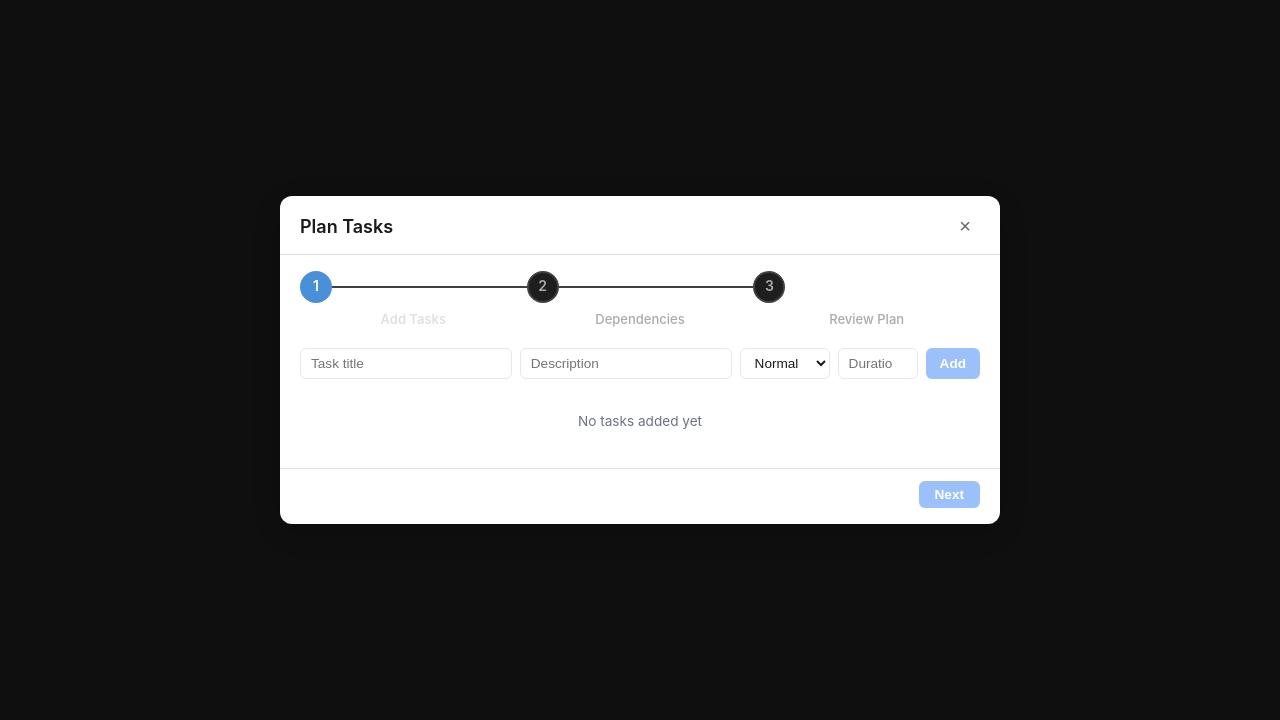
Test: PlannerWizard › step 1 — add tasks › priority selector works
Step 1. Type "Critical Task" into the field with placeholder "Task title" → (406,363), box [300,348,512,379]
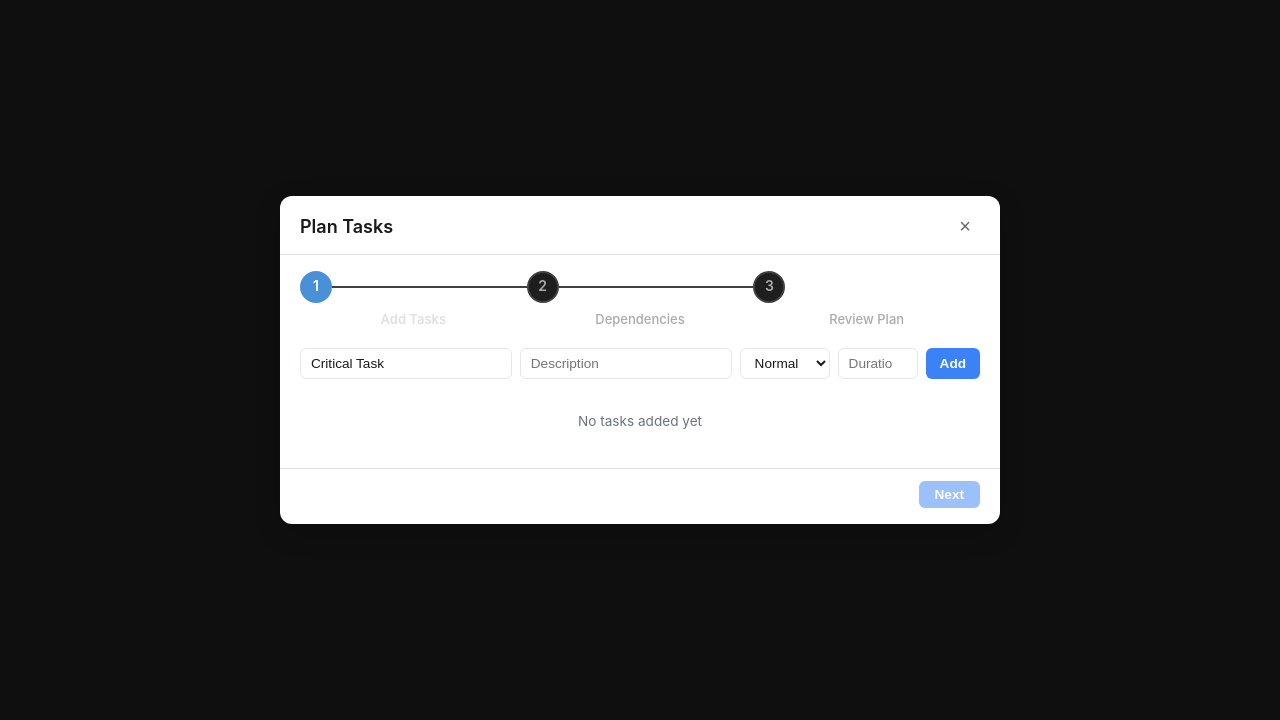
Step 2. Select "Critical" in the dropdown named "Priority" → (785,363), box [740,348,830,379]
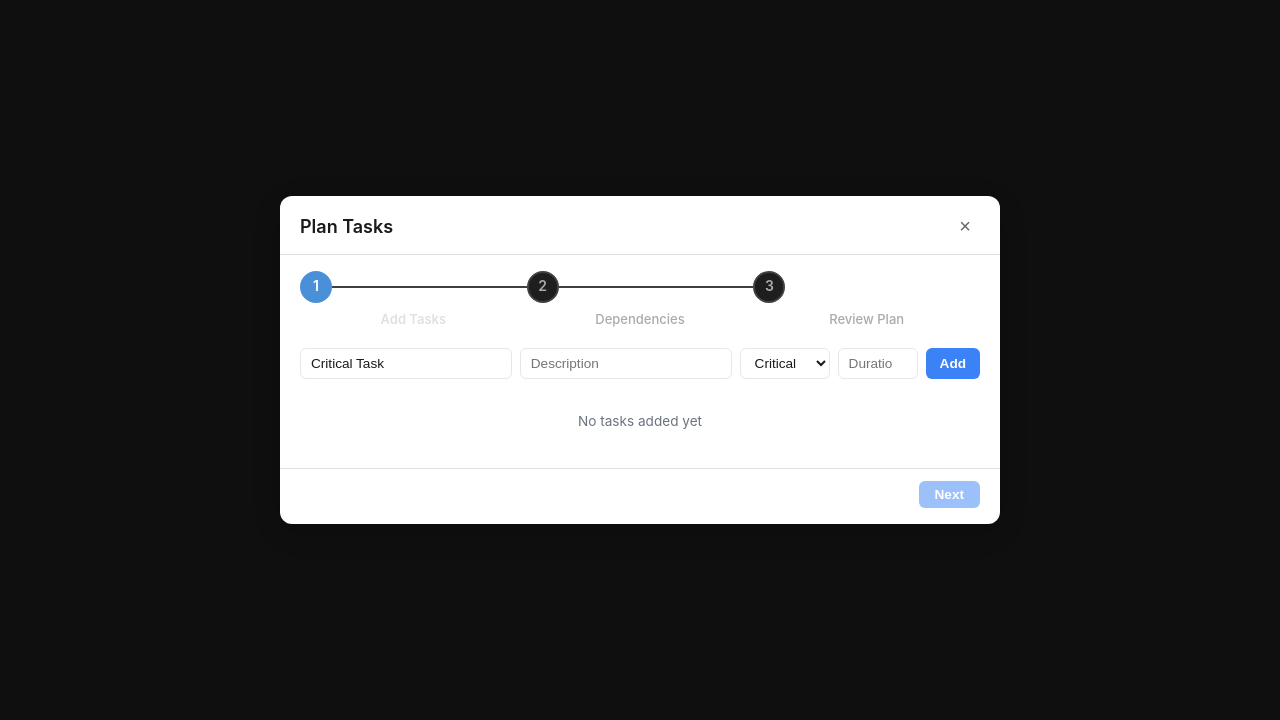
Step 3. Click the button "Add" → (953,363), box [926,348,980,379]
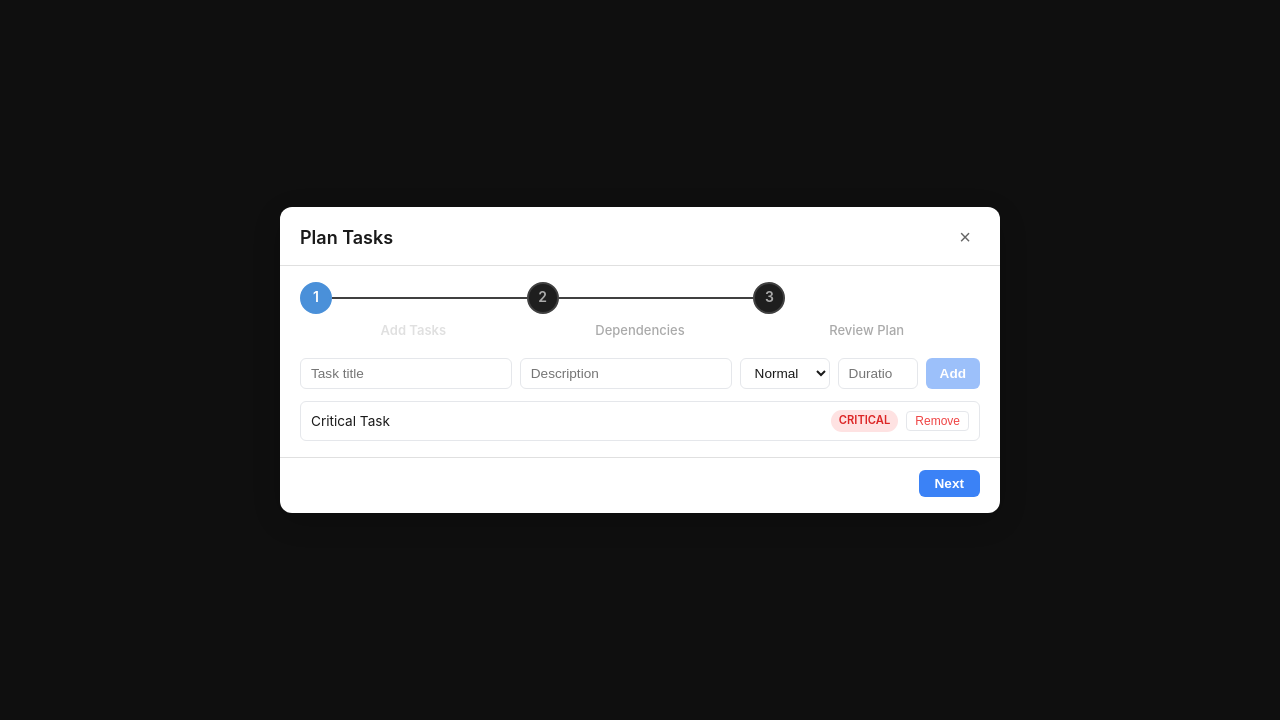
expect the text "critical" is shown: met, box [831,410,898,432]
